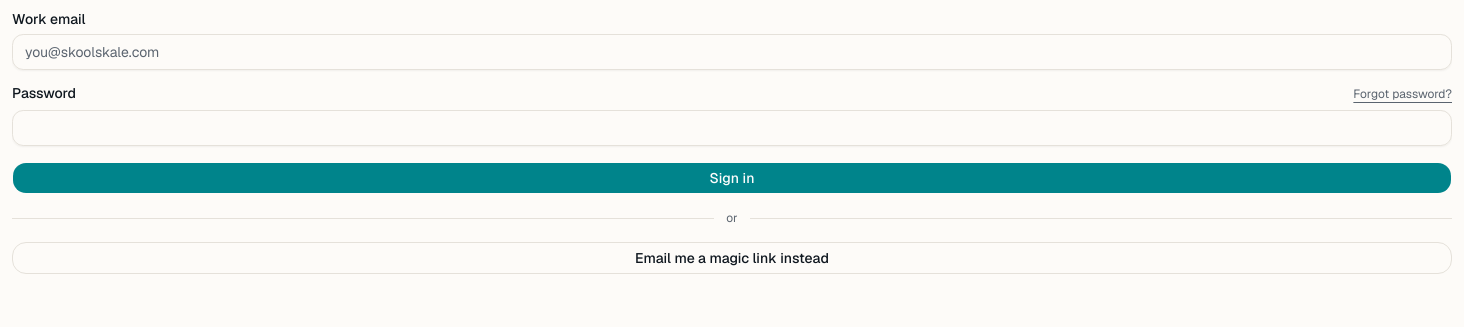
Test: LoginForm — password sign-in › shows the error and stays put when the credentials are rejected
The image size is (1464, 327).
Type "ramsha@skoolskale.com" into the field labelled "Work email" at coordinates (732, 52), box [12,34,1452,70]
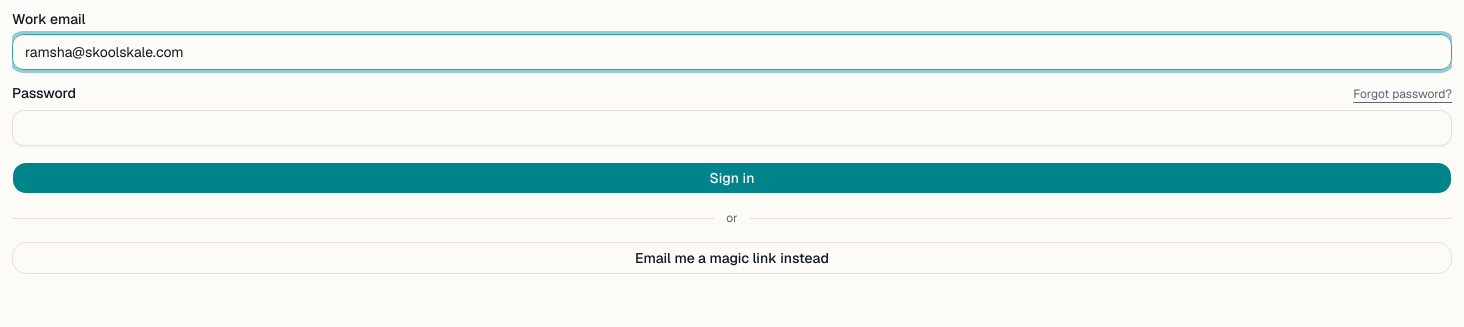
Type "correct-horse-battery" into the password field labelled "Password" at coordinates (732, 128), box [12,110,1452,146]
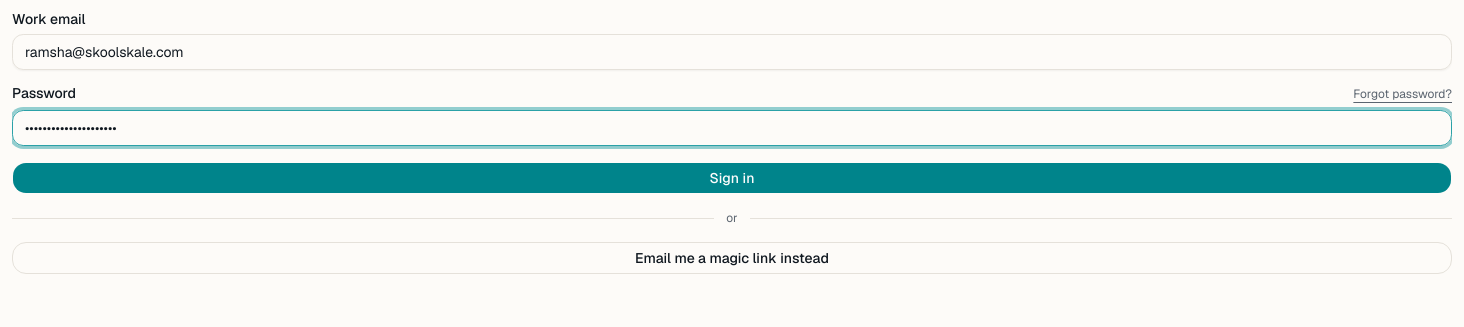
Click the button "Sign in" at coordinates (732, 178), box [12,162,1452,194]
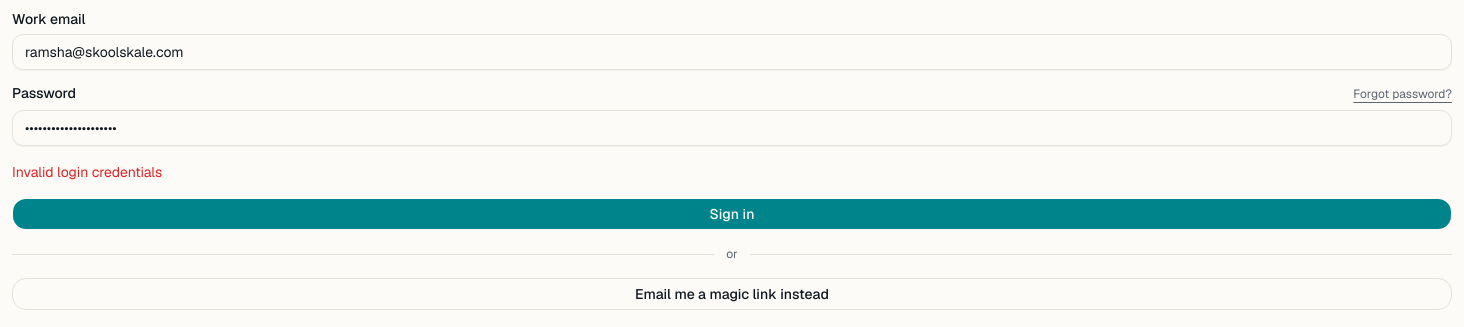
Result: the message reads "Invalid login credentials" at [12,163,162,181]
